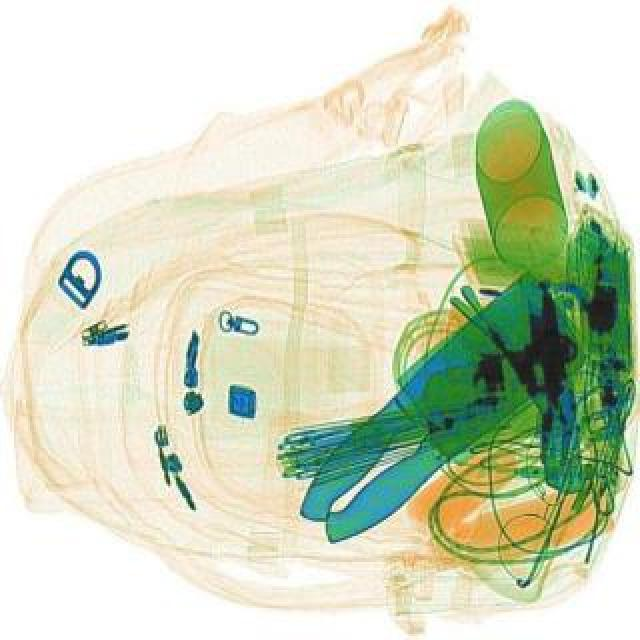knife: (278, 268, 604, 566), (270, 272, 598, 556)
